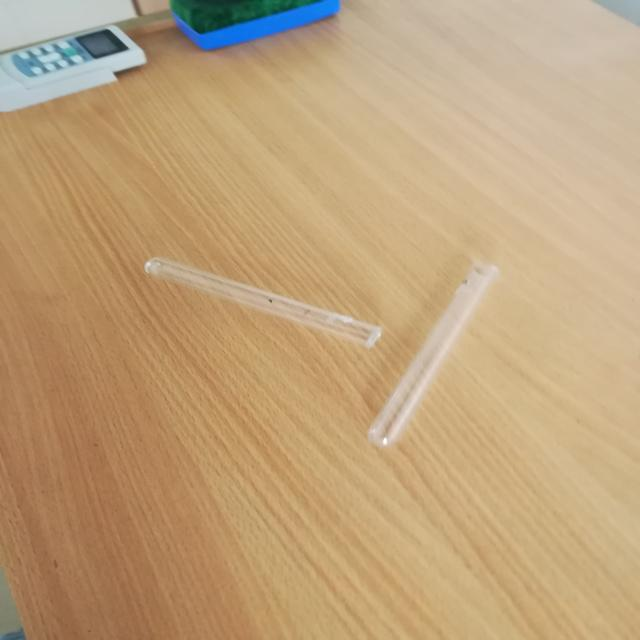Test_Tube: (354, 247, 549, 461), (125, 234, 394, 351)
